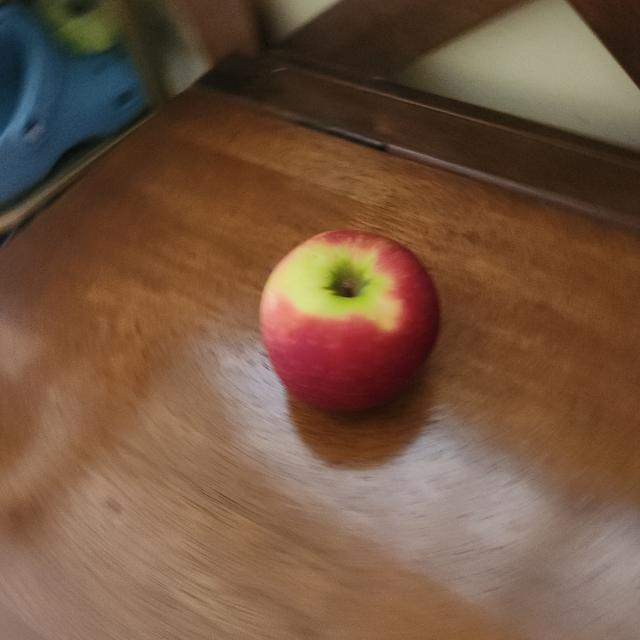apple: (255, 220, 442, 428)
